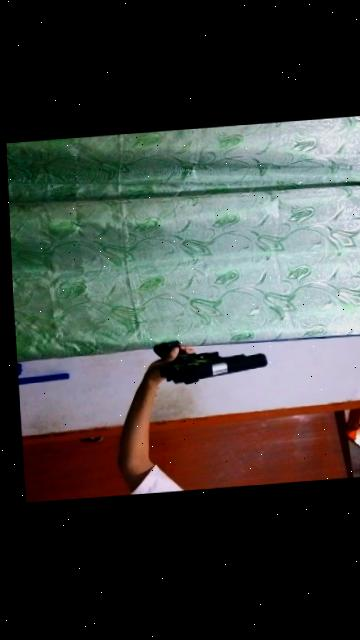pistol: (138, 322, 274, 392)
